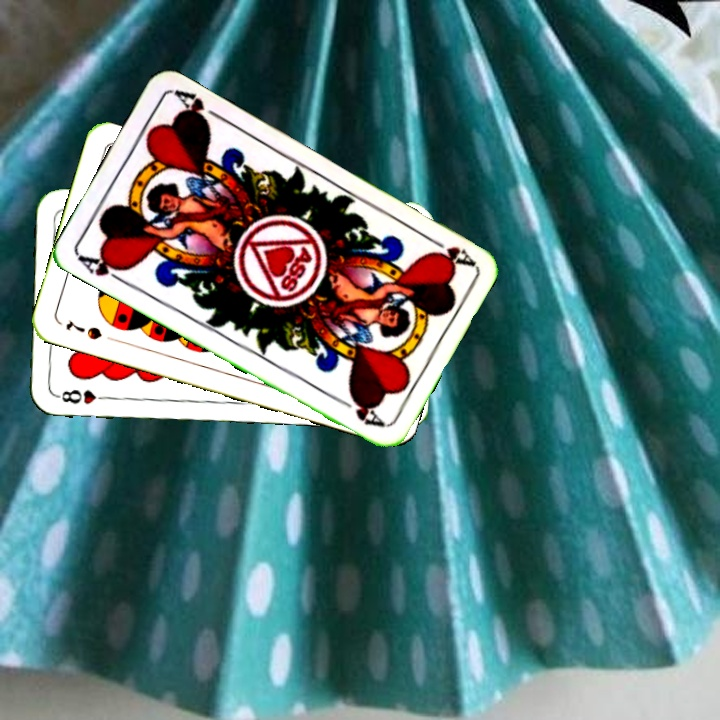H8: (53, 386, 112, 407)
HA: (75, 250, 132, 288), (421, 231, 476, 269)
S7: (61, 316, 105, 343)
